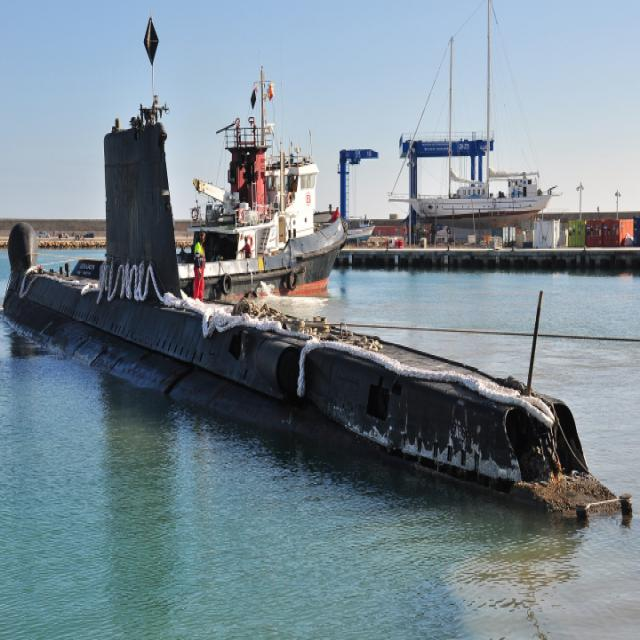submarine: (1, 111, 636, 523)
